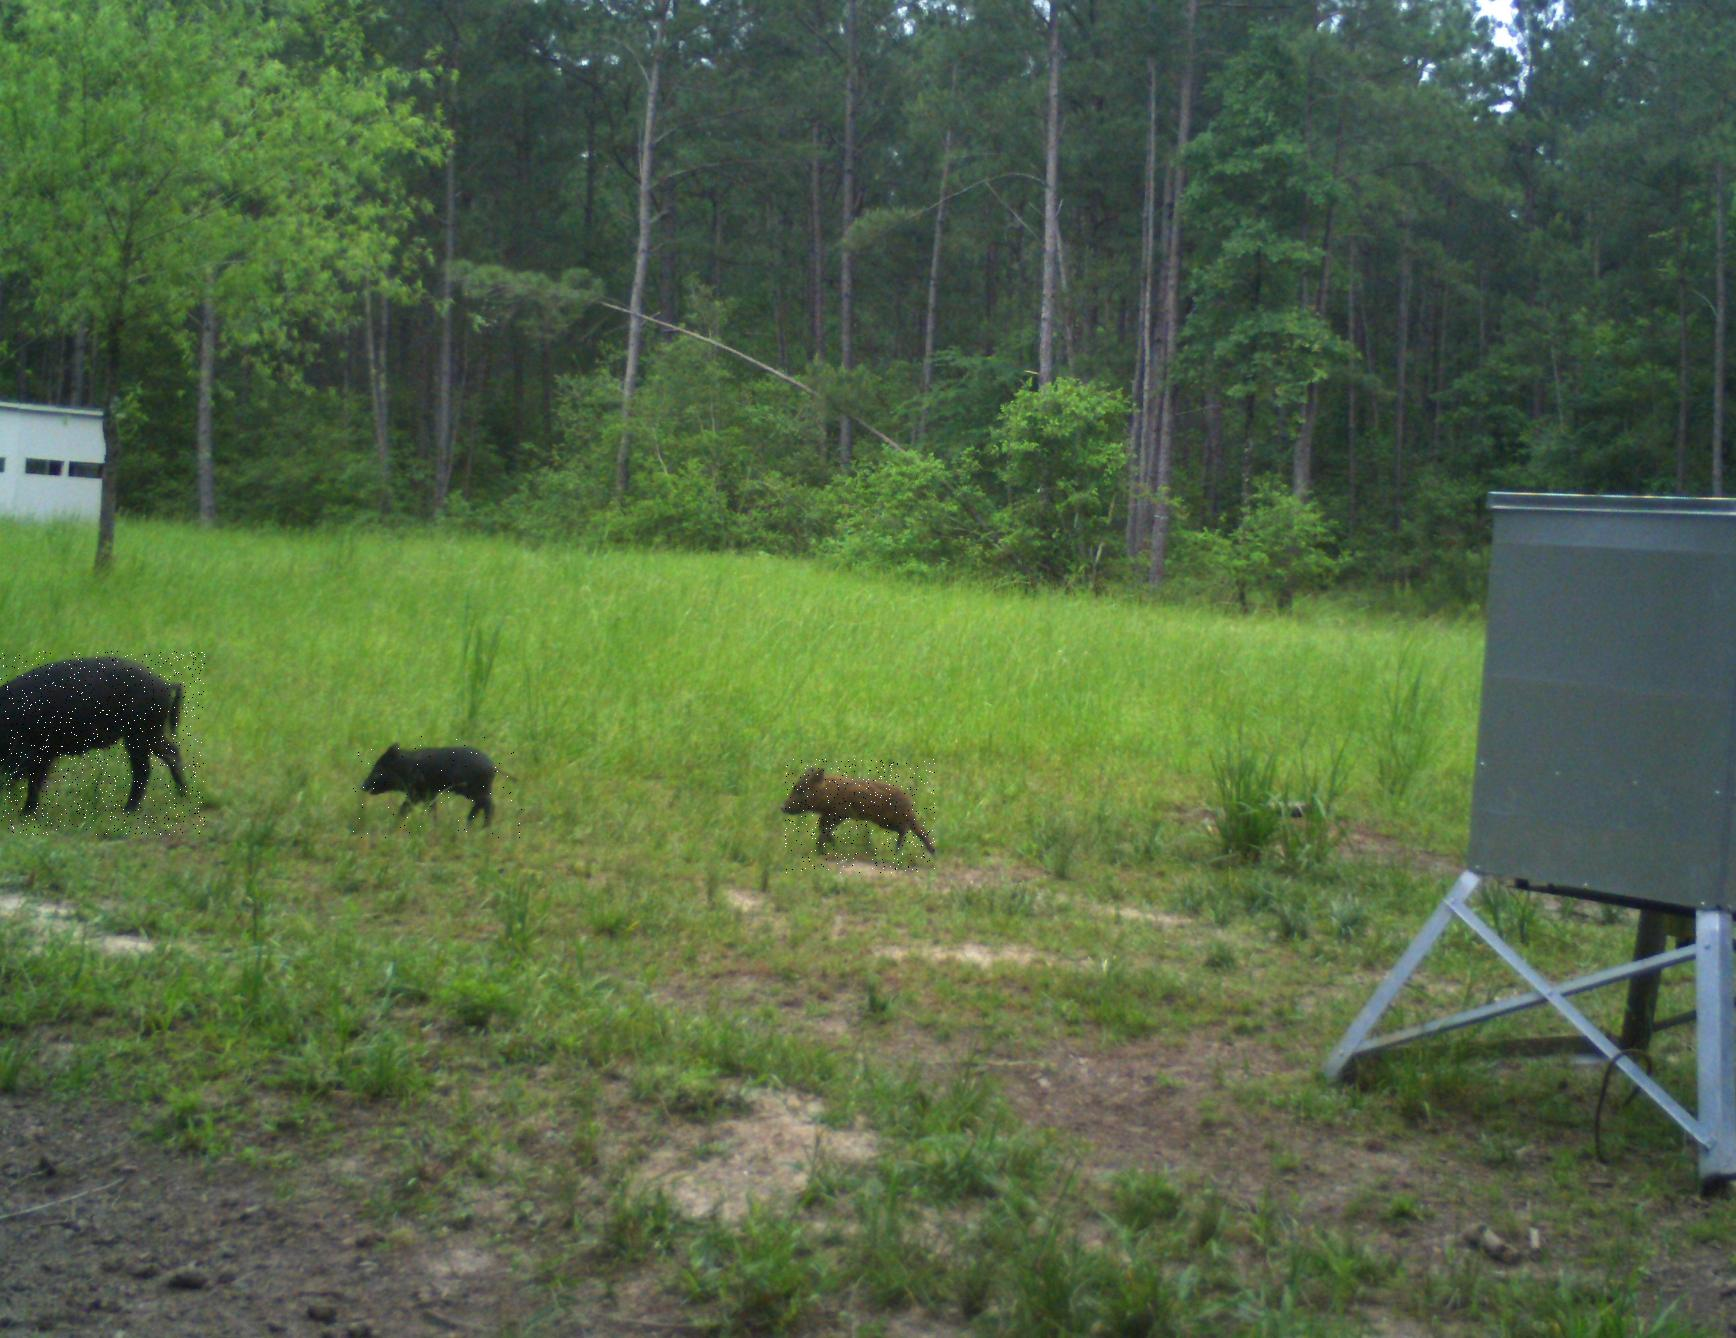Hog: (0, 651, 205, 835), (353, 735, 522, 838), (784, 759, 935, 873)
